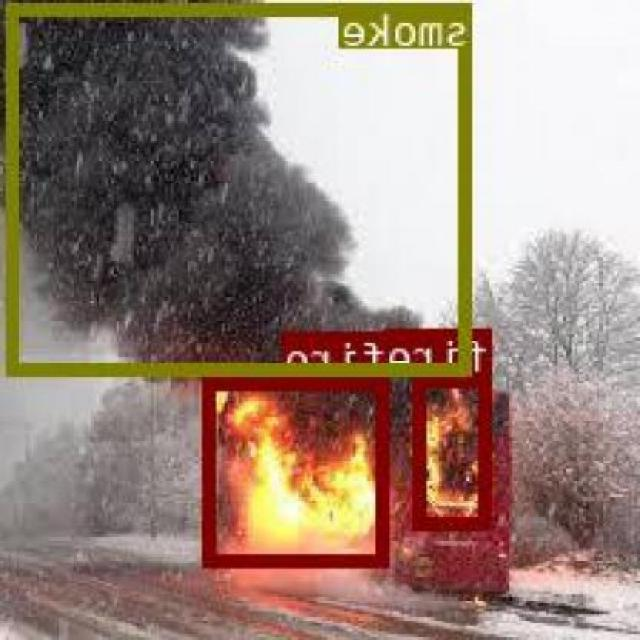Fire: (206, 374, 392, 566), (416, 372, 492, 528)
Smoke: (11, 1, 474, 372)
